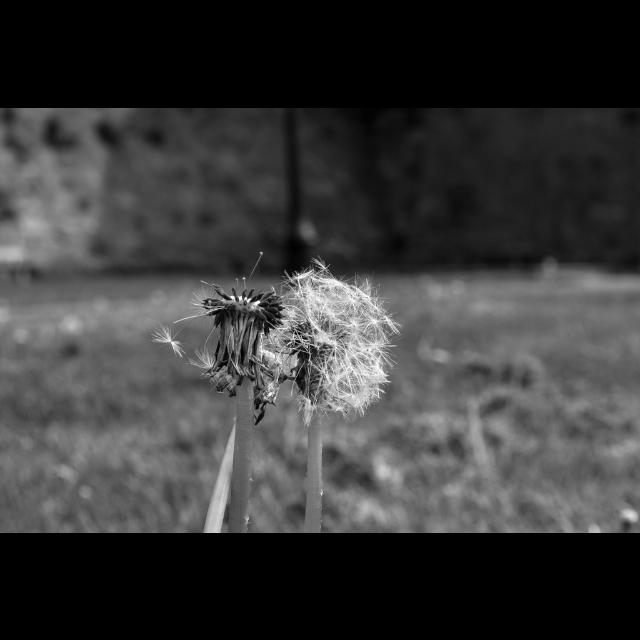Flower: (172, 228, 352, 432)
